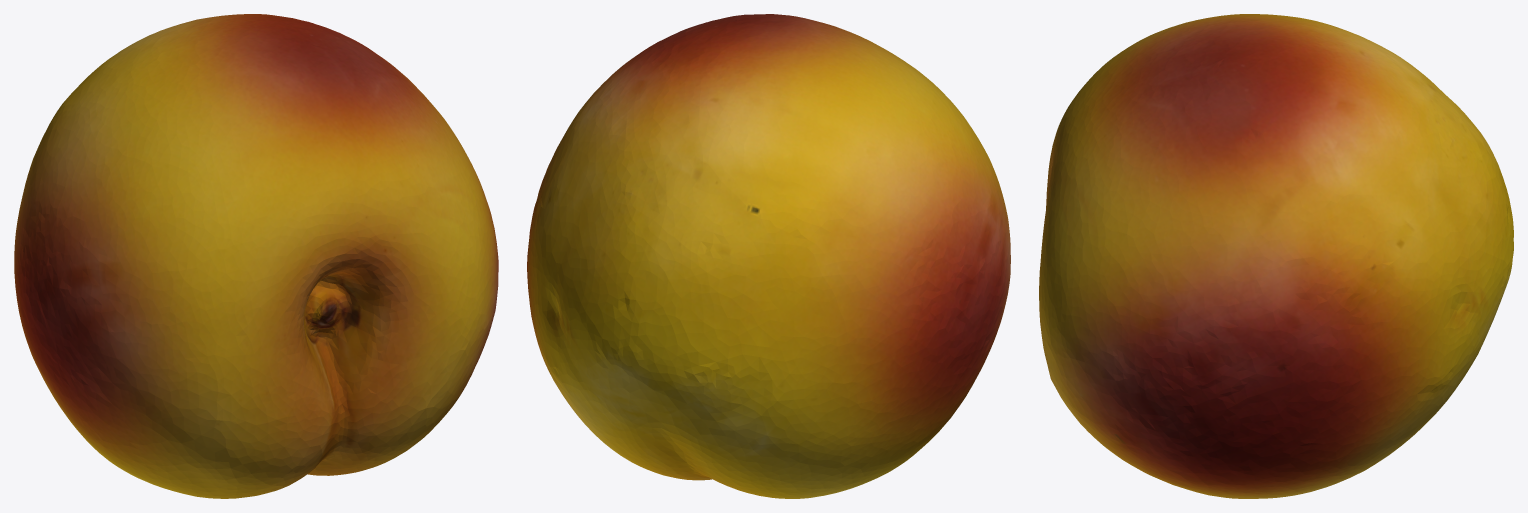
The model's file is peach.obj.
3 renders of one model, left to right at view 1: azimuth 30°, elevation 25°; view 2: azimuth 150°, elevation 25°; view 3: azimuth 270°, elevation 25°, orthographic.
Size of the model in its own units: 0.059 by 0.059 by 0.059.
1 material, 1 textured.
